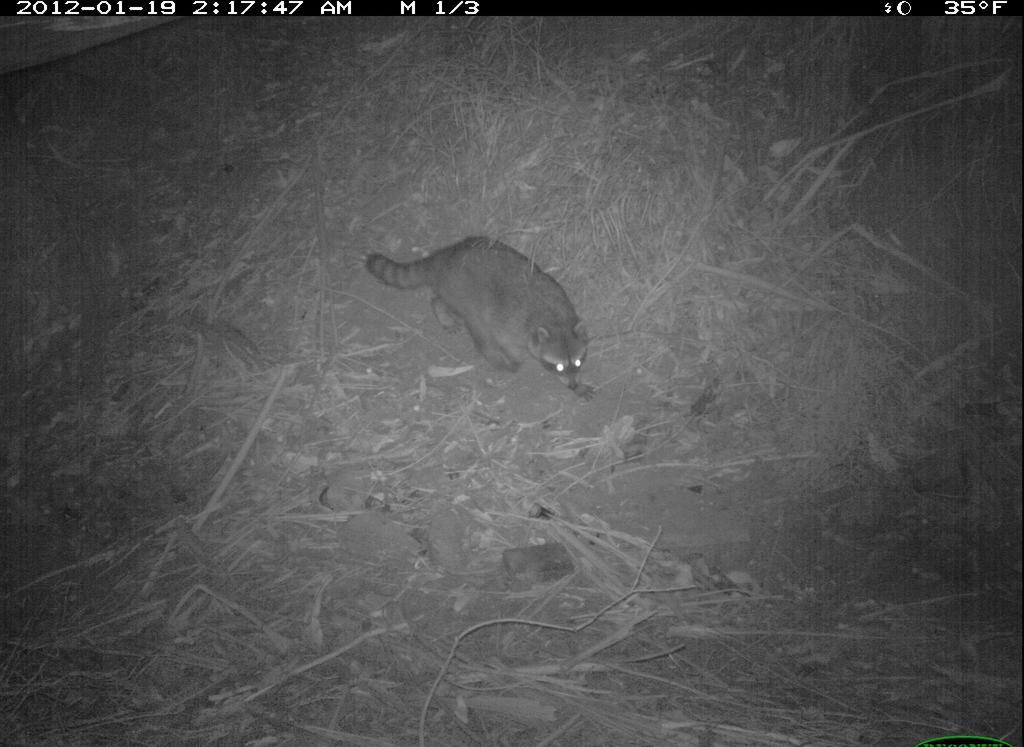raccoon: (358, 224, 597, 399)
